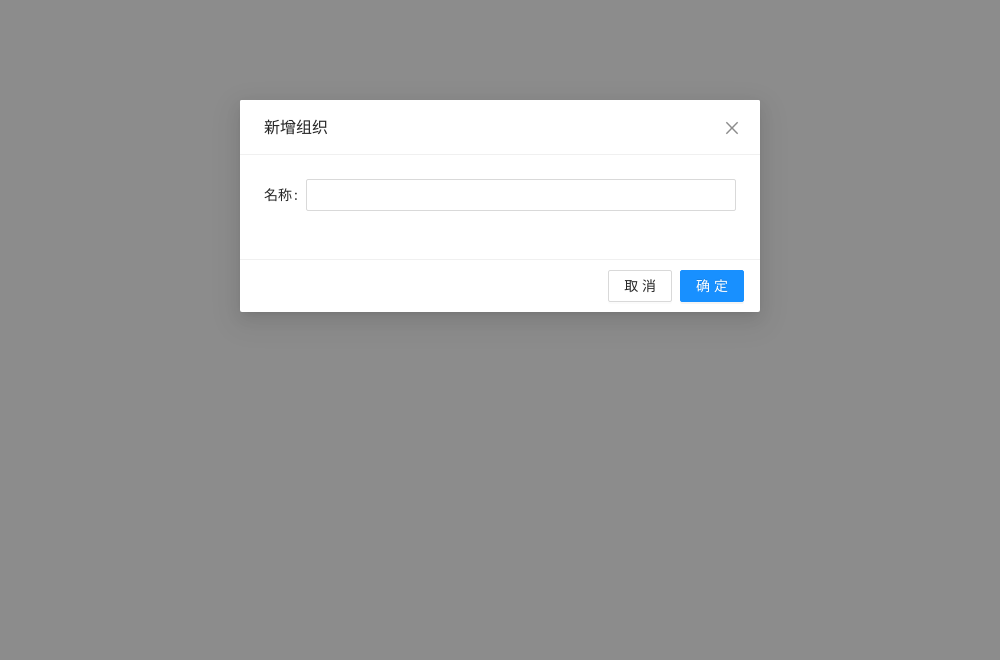
Test: AddOrganization.cy.ts › 保存失败提示
Type "子公司名称" into the field with id "inputName".
click(521, 195); type("子公司名称")  # box [306,179,736,211]
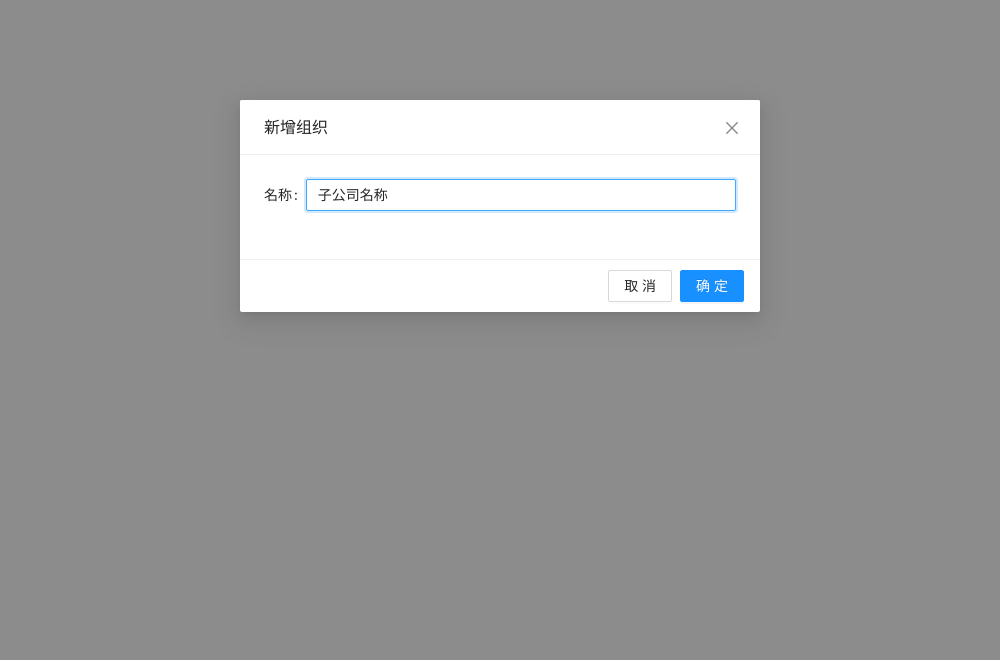
Click the button "确 定".
click(712, 286)  # box [680,270,744,302]
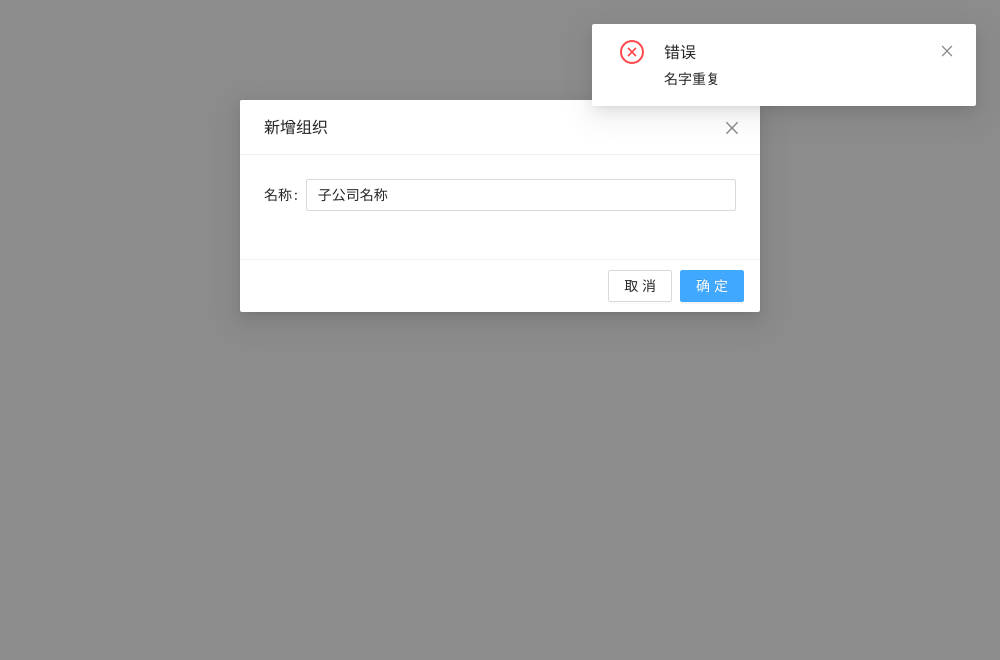
Expected: the text "新增组织" is shown, [264,117,328,137]
Expected: the text "名字重复" is shown, [664,70,720,87]
